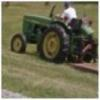tractors: (9, 10, 99, 66)
